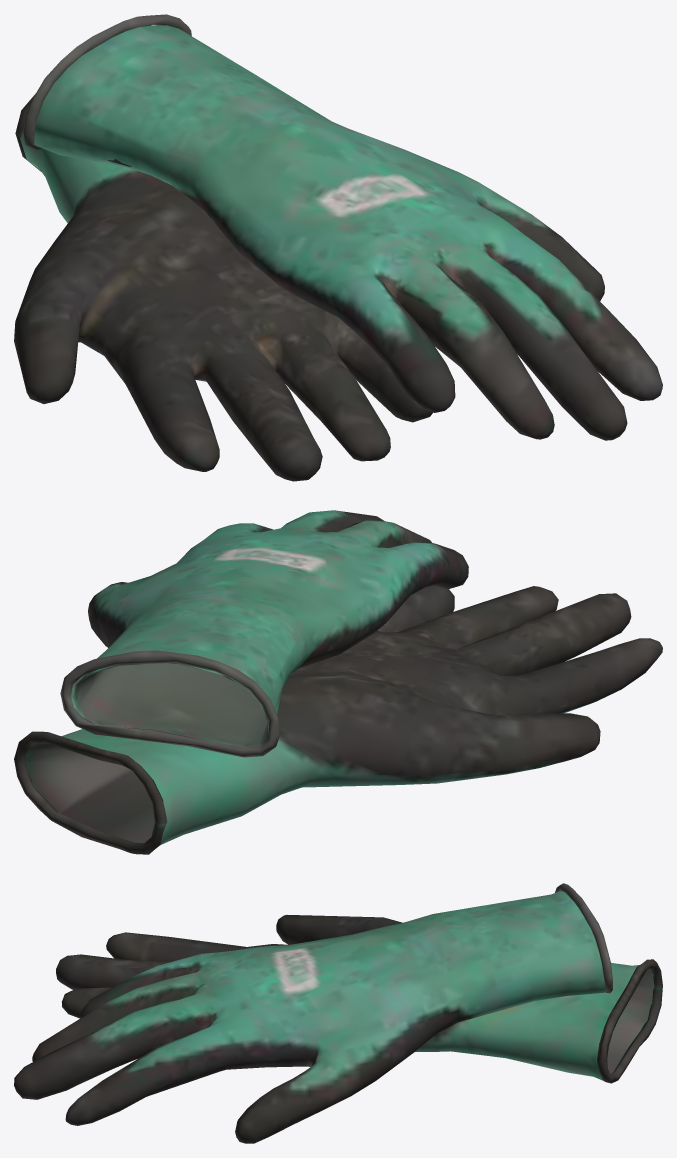
Rendered from glove-work.glb.
3 views of the same model, one above another, from view 1: azimuth 30°, elevation 25°; view 2: azimuth 150°, elevation 25°; view 3: azimuth 270°, elevation 25° (orthographic). The views are drawn at different scales.
Parts seen in each view (by area): view 1: garden_gloves_01; view 2: garden_gloves_01; view 3: garden_gloves_01.
Part boxes in pixels (<box>): garden_gloves_01: <box>14,14,662,481</box>; garden_gloves_01: <box>14,510,662,854</box>; garden_gloves_01: <box>14,883,662,1143</box>.
Size of the model in its own units: 0.226 by 0.0759 by 0.2988.
Materials: 1 (1 with a texture image).
